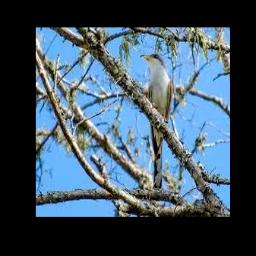Cuckoo: (141, 53, 173, 193)
